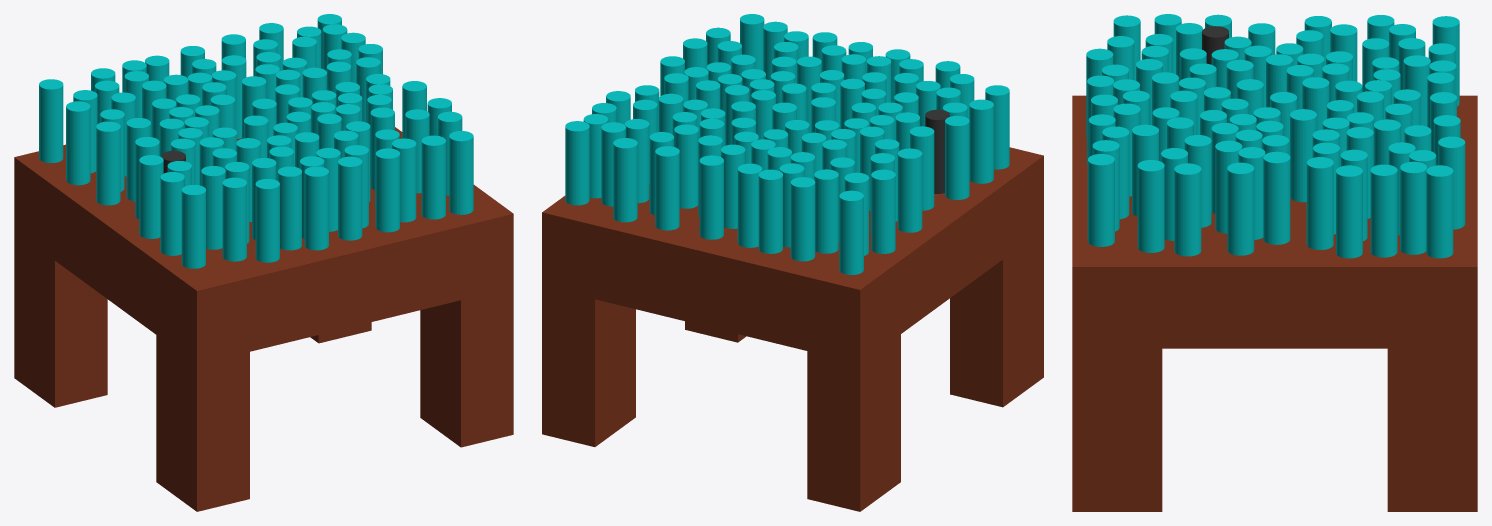
The model's file is can_world_100_cans.dae.
3 views of the same model, side by side, from view 1: azimuth 30°, elevation 25°; view 2: azimuth 150°, elevation 25°; view 3: azimuth 270°, elevation 25° (orthographic). The views are drawn at different scales.
Visible parts, largest first — view 1: base (×57); view 2: base (×56); view 3: base (×80).
Part boxes in pixels (x1=…): base (×57): x1=14, y1=23, x2=513, y2=511; base (×56): x1=542, y1=14, x2=1043, y2=511; base (×80): x1=1072, y1=14, x2=1477, y2=511.
Bounding box in the file's own units: 0.9 × 0.9 × 0.811.
